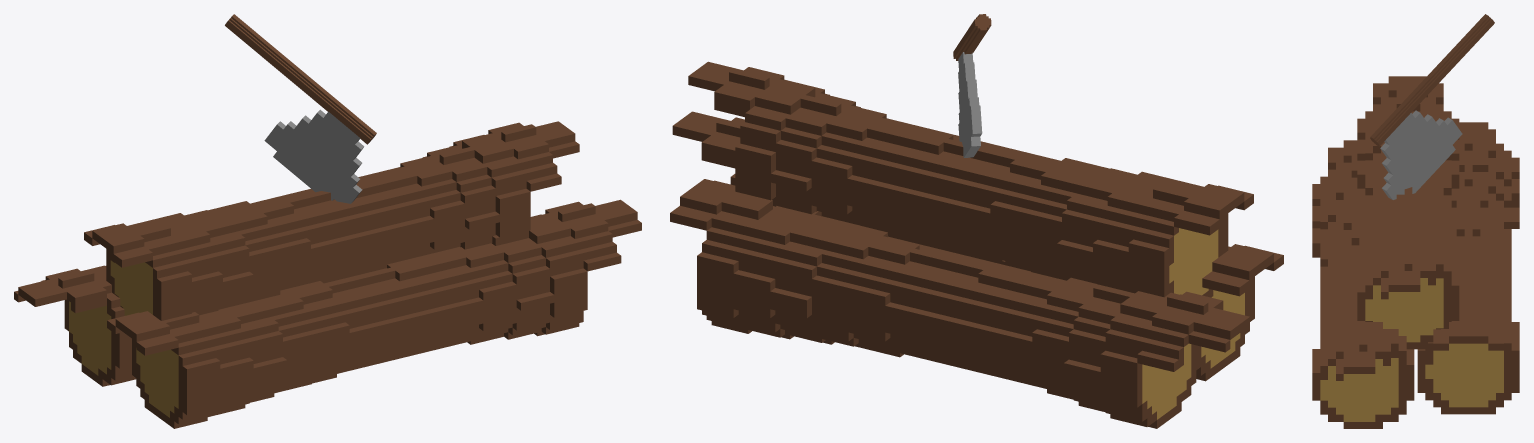
The model's file is строймат (1).fbx.
3 renders of one model, left to right at view 1: azimuth 30°, elevation 25°; view 2: azimuth 150°, elevation 25°; view 3: azimuth 270°, elevation 25°, orthographic. The views are drawn at different scales.
Parts seen in each view (by area): view 1: Plane; view 2: Plane; view 3: Plane.
Boxes of the visible parts, x1=… form: Plane: x1=14, y1=14, x2=641, y2=428; Plane: x1=670, y1=14, x2=1283, y2=428; Plane: x1=1312, y1=14, x2=1519, y2=428.
Size of the model in its own units: 512 by 289 by 183.
